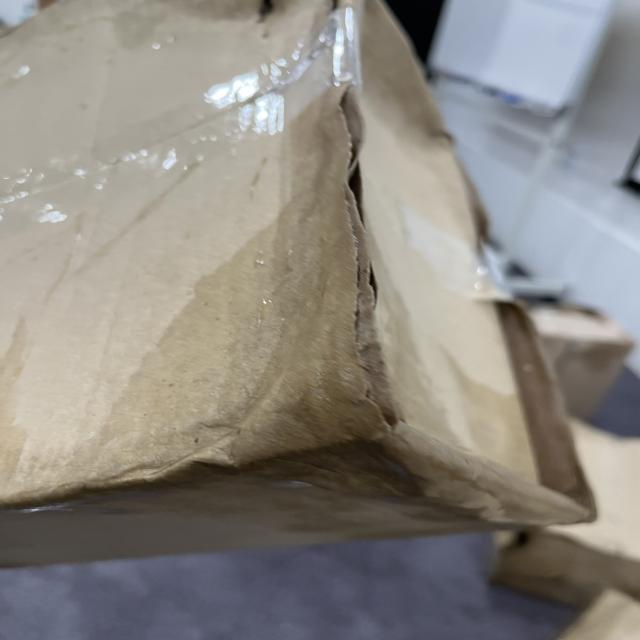wet: (126, 85, 419, 481)
